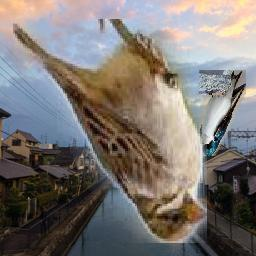Sparrow: (13, 19, 207, 243)
Swallow: (200, 70, 247, 156)
